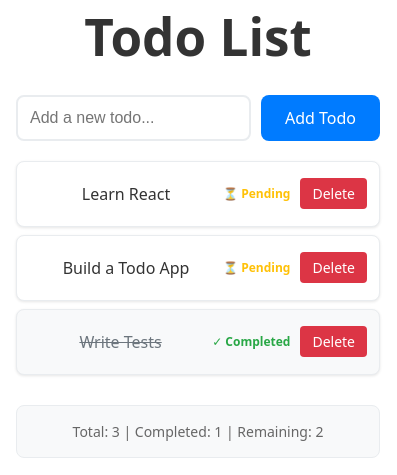
Test: TodoList Component › shows empty state message when no todos exist
The image size is (397, 475).
Click the button "Delete" in the row of "Learn React".
click(334, 194)  # box [300,178,367,209]
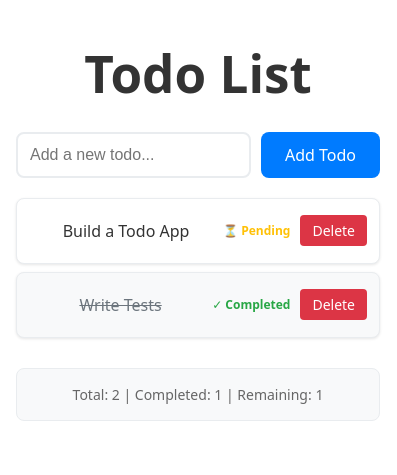
Click the button "Delete" in the row of "Build a Todo App".
click(334, 231)  # box [300,215,367,246]
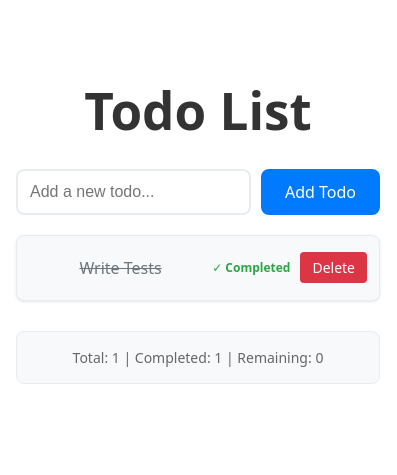
Click the button "Delete".
click(334, 268)  # box [300,252,367,283]
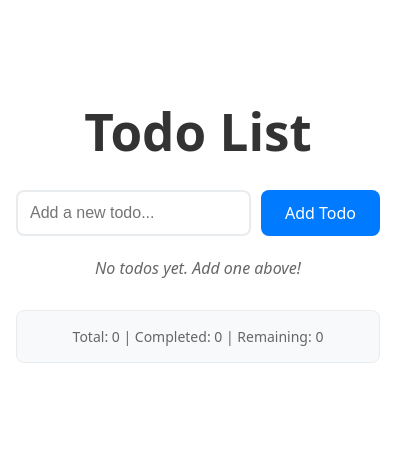
Check: the text "No todos yet. Add one above!" is shown, box [95,257,301,279]
Check: the text "Total: 0 | Completed: 0 | Remaining: 0" is shown, box [73,327,323,346]
